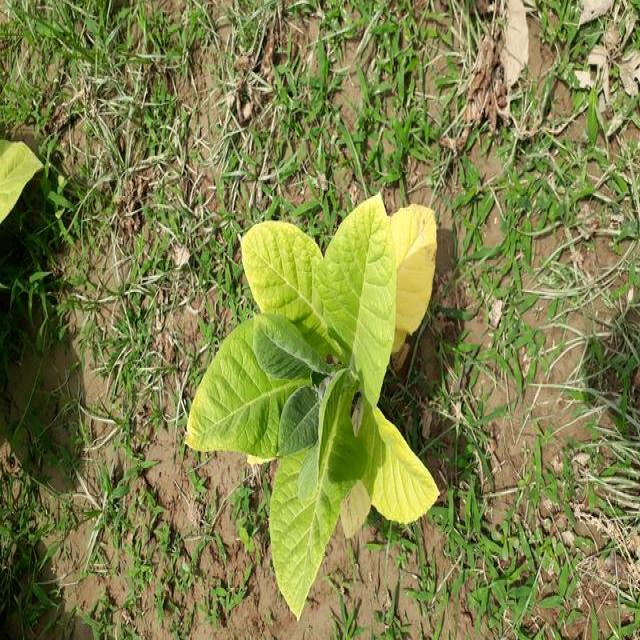crop: (191, 196, 440, 615)
